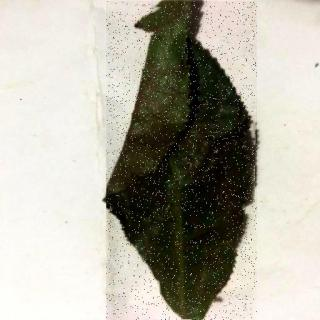Red Leaf Spot: (107, 2, 258, 320)
